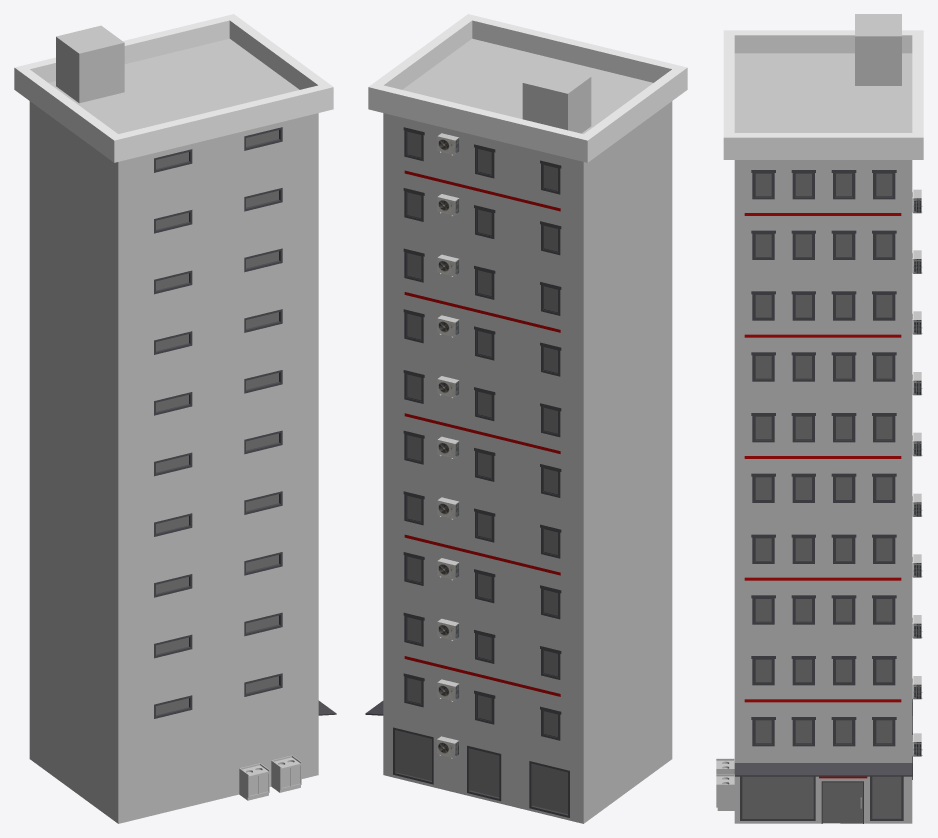
The model's file is Punk3last.fbx.
The picture shows the model from 3 angles, left to right: view 1: azimuth 30°, elevation 25°; view 2: azimuth 150°, elevation 25°; view 3: azimuth 270°, elevation 25°; orthographic projection.
Visible parts, largest first — view 1: Group1, Group3, Group2, Group4; view 2: Group1, Group3, Group2, Group4; view 3: Group1, Group3, Group2, Group4.
Part boxes in pixels (<box>): Group1: <box>14,14,333,763</box>; Group3: <box>29,698,336,823</box>; Group2: <box>29,152,318,277</box>; Group4: <box>29,101,318,216</box>; Group1: <box>368,14,687,763</box>; Group3: <box>365,699,672,823</box>; Group2: <box>383,152,672,277</box>; Group4: <box>383,101,672,216</box>; Group1: <box>723,14,923,762</box>; Group3: <box>716,699,922,823</box>; Group2: <box>734,189,922,276</box>; Group4: <box>734,160,912,215</box>.
Bounding box in the file's own units: 1179 × 3565 × 927.
